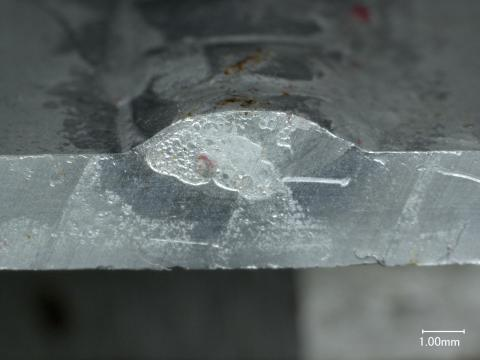test: (129, 110, 368, 151)
